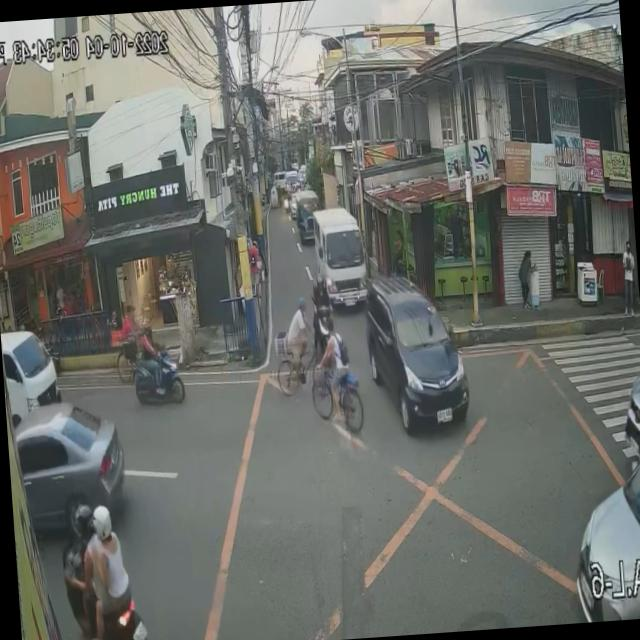half: (91, 502, 112, 542)
